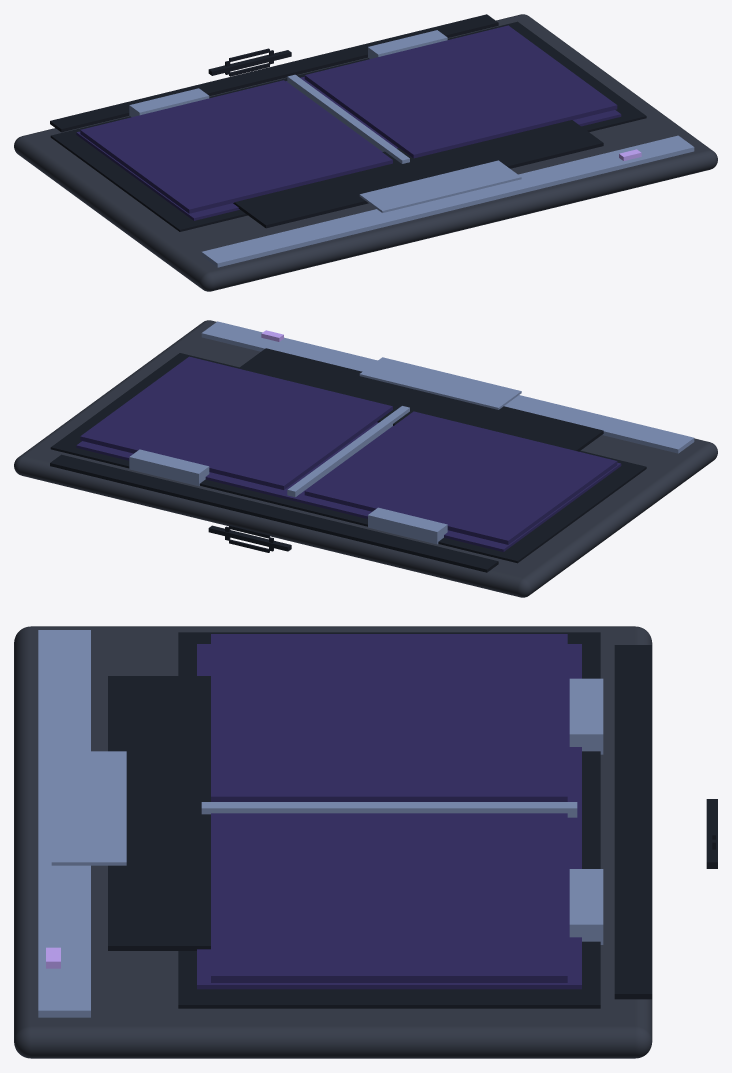
The picture shows the model from 3 angles, top to bottom: view 1: azimuth 30°, elevation 25°; view 2: azimuth 150°, elevation 25°; view 3: azimuth 270°, elevation 25°; orthographic projection. The views are drawn at different scales.
Parts seen in each view (by area): view 1: laptop-body, screen-surface-left, screen-surface-right, keyboard-deck, laptop-accent, screen-bezel, laptop-detail, trackpad, screen-surface, screen-divider, hinge-left, hinge-right (+1 smaller); view 2: laptop-body, screen-surface-left, screen-surface-right, keyboard-deck, screen-bezel, laptop-detail, laptop-accent, trackpad, screen-surface, hinge-right, hinge-left, screen-divider (+1 smaller); view 3: laptop-body, screen-surface-right, screen-surface-left, keyboard-deck, laptop-accent, screen-bezel, laptop-detail, trackpad, screen-surface, screen-divider, hinge-left, hinge-right (+1 smaller).
Boxes of the visible parts, x1,y1,x2,y2 form: laptop-body: [14, 14, 717, 291]; screen-surface-left: [80, 80, 392, 213]; screen-surface-right: [304, 25, 617, 158]; keyboard-deck: [233, 120, 603, 228]; laptop-accent: [201, 135, 694, 267]; screen-bezel: [50, 21, 646, 231]; laptop-detail: [50, 14, 498, 132]; trackpad: [359, 160, 521, 212]; screen-surface: [76, 76, 621, 220]; screen-divider: [287, 74, 409, 163]; hinge-left: [129, 88, 209, 116]; hinge-right: [368, 30, 447, 58]; laptop-body: [14, 320, 717, 597]; screen-surface-left: [304, 411, 617, 544]; screen-surface-right: [80, 356, 392, 489]; keyboard-deck: [238, 348, 603, 451]; screen-bezel: [50, 353, 646, 563]; laptop-detail: [50, 454, 498, 572]; laptop-accent: [201, 321, 694, 453]; trackpad: [359, 357, 521, 409]; screen-surface: [76, 422, 621, 551]; hinge-right: [129, 449, 209, 486]; hinge-left: [368, 507, 447, 544]; screen-divider: [287, 406, 409, 497]; laptop-body: [14, 626, 652, 1058]; screen-surface-right: [211, 813, 567, 982]; screen-surface-left: [211, 634, 567, 801]; keyboard-deck: [108, 676, 210, 950]; laptop-accent: [38, 630, 90, 1017]; screen-bezel: [178, 632, 600, 1008]; laptop-detail: [614, 645, 652, 999]; trackpad: [51, 751, 126, 865]; screen-surface: [197, 644, 581, 989]; screen-divider: [201, 802, 577, 817]; hinge-left: [569, 678, 603, 754]; hinge-right: [569, 869, 603, 944].
Bounding box in the file's own units: 0.52 × 0.033 × 0.375.
